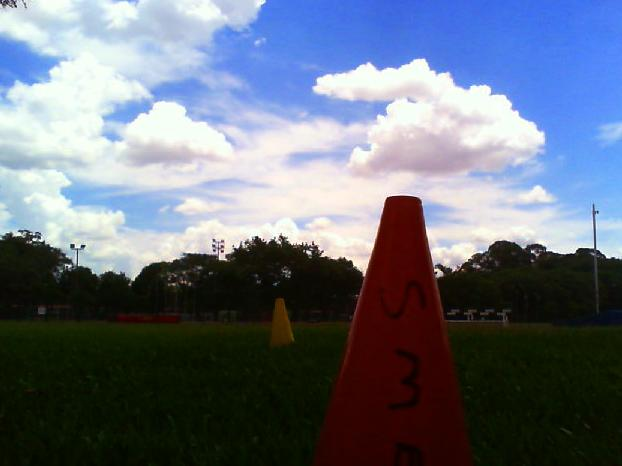0 cone: (308, 194, 474, 466), (269, 298, 295, 348)
